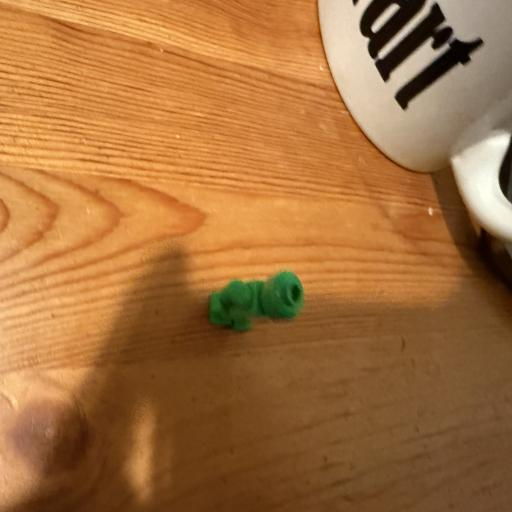Minifig: (210, 271, 303, 330)
